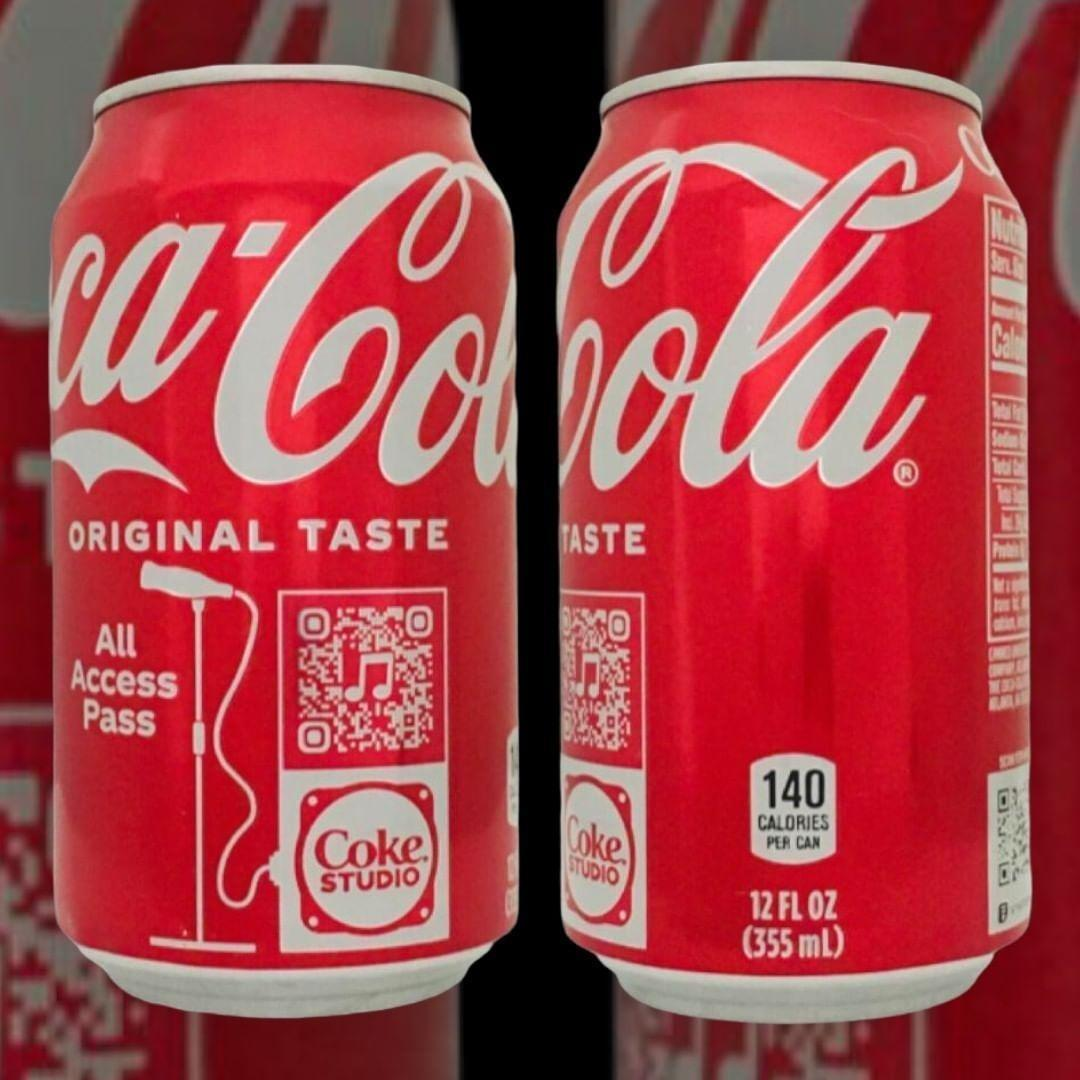tin can: (31, 52, 554, 1037), (539, 57, 1047, 1026)
